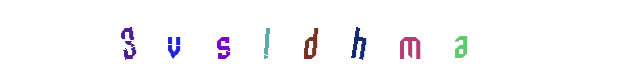3: (88, 0, 168, 80)
A: (365, 0, 445, 80)
D: (271, 0, 351, 80)
H: (318, 0, 398, 80)
L: (270, 0, 350, 80)
M: (342, 0, 422, 80)
S: (183, 0, 263, 80)
V: (133, 0, 213, 80)
